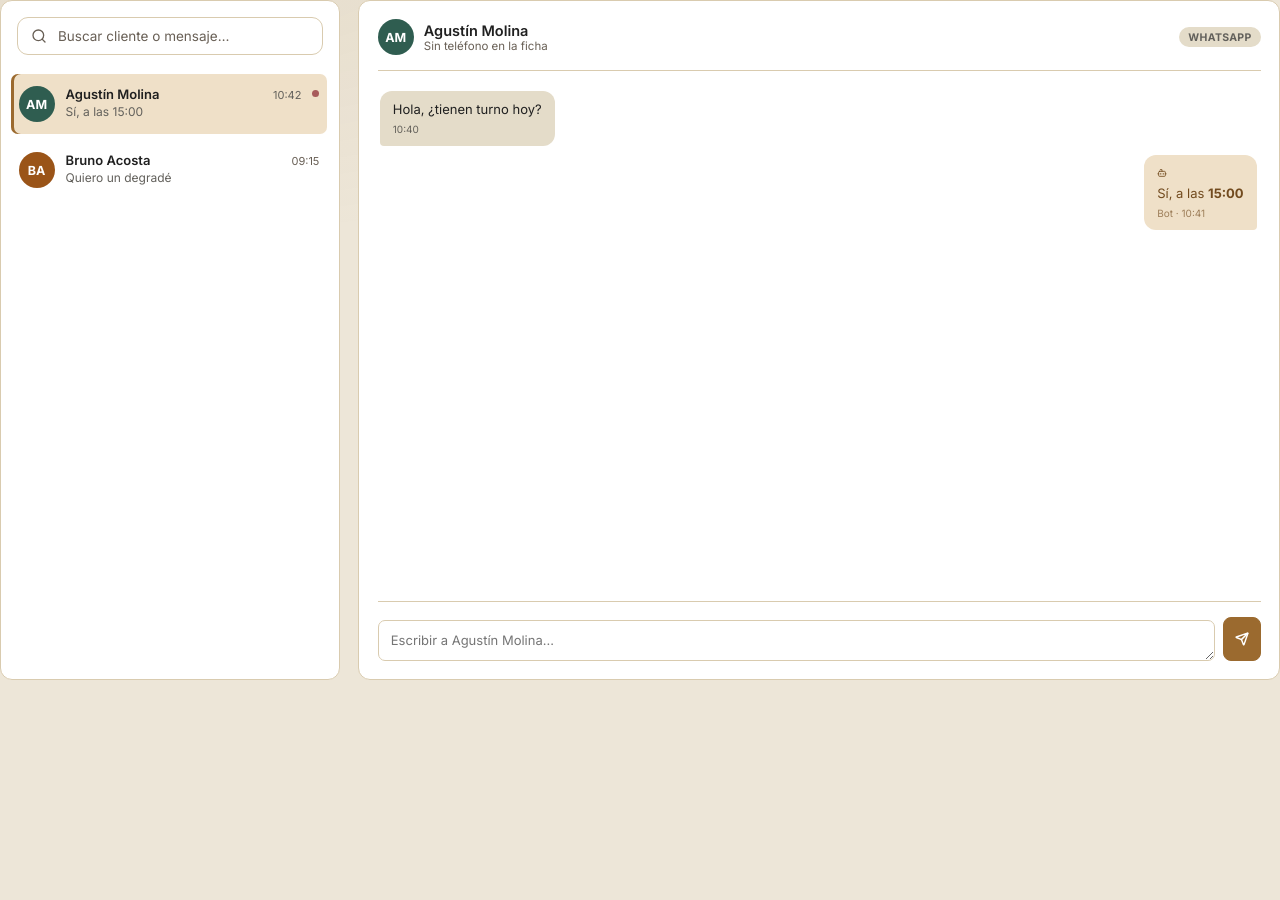
Test case: Messages (vista completa) › bloquea el composer mientras envía y evita envíos dobles
In the text box named "Mensaje para Agustín Molina": (796, 640) [378, 620, 1215, 661], type "Hola"
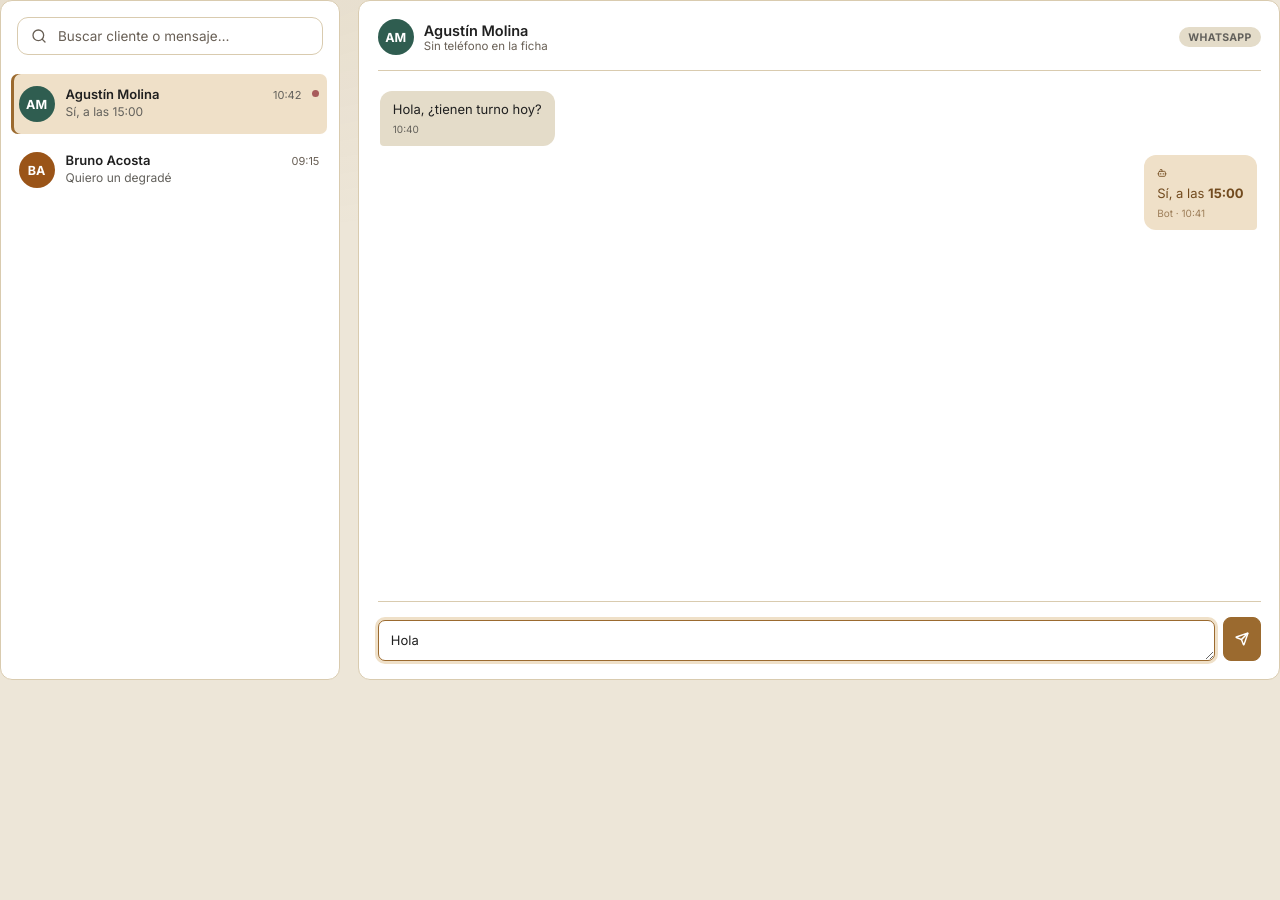
Click the button named "Enviar": (1242, 639) [1223, 617, 1261, 661]
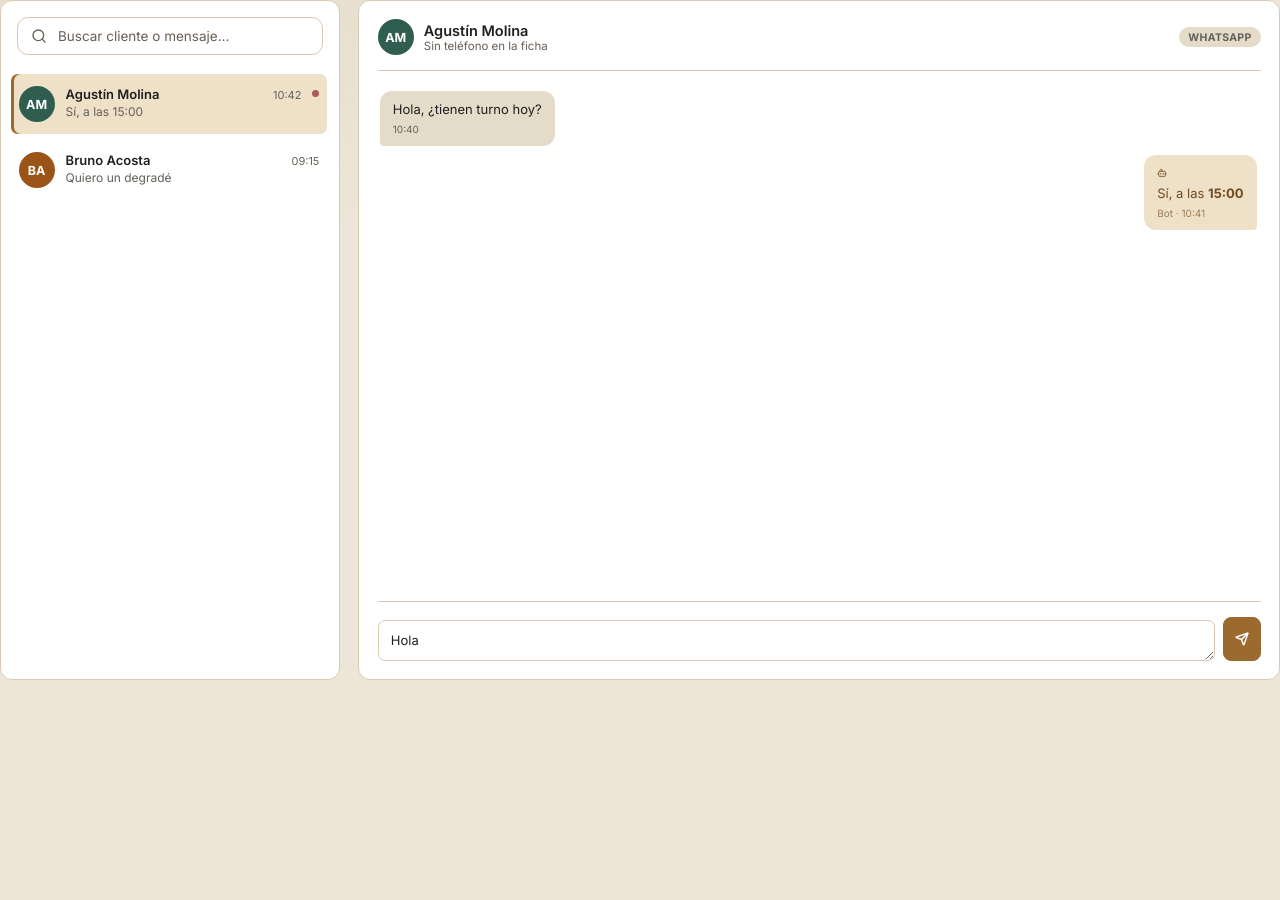
Check: the text box named "Mensaje para Agustín Molina" is disabled, box [378, 620, 1215, 661]
Click the button named "Enviar": (1242, 639) [1223, 617, 1261, 661]
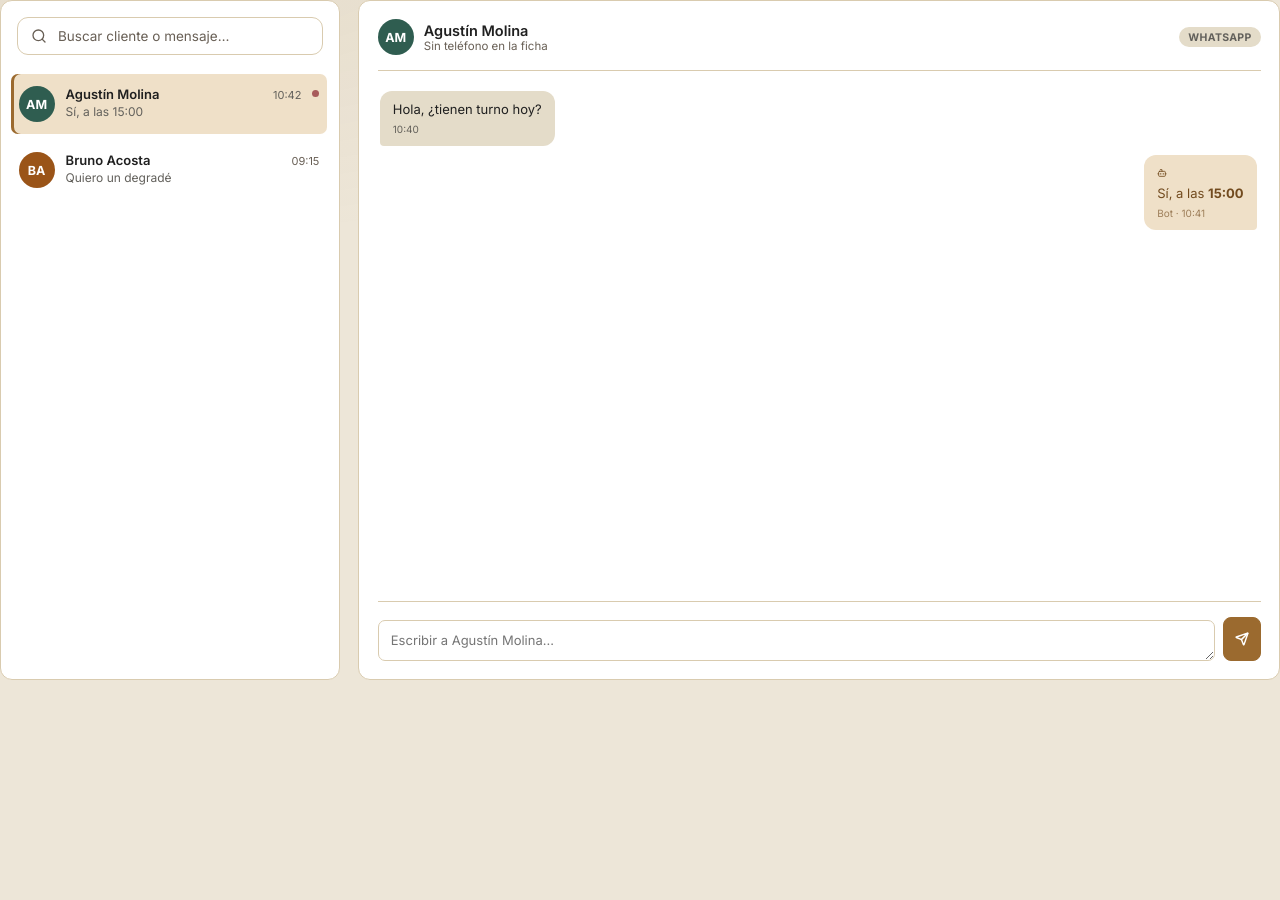
Check: the text box named "Mensaje para Agustín Molina" is enabled, box [378, 620, 1215, 661]
